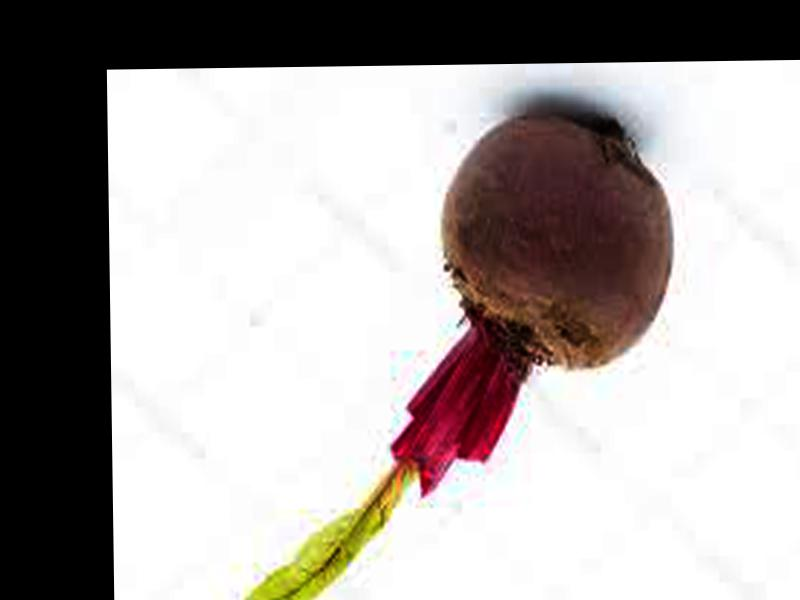Beet: (241, 113, 679, 600)
